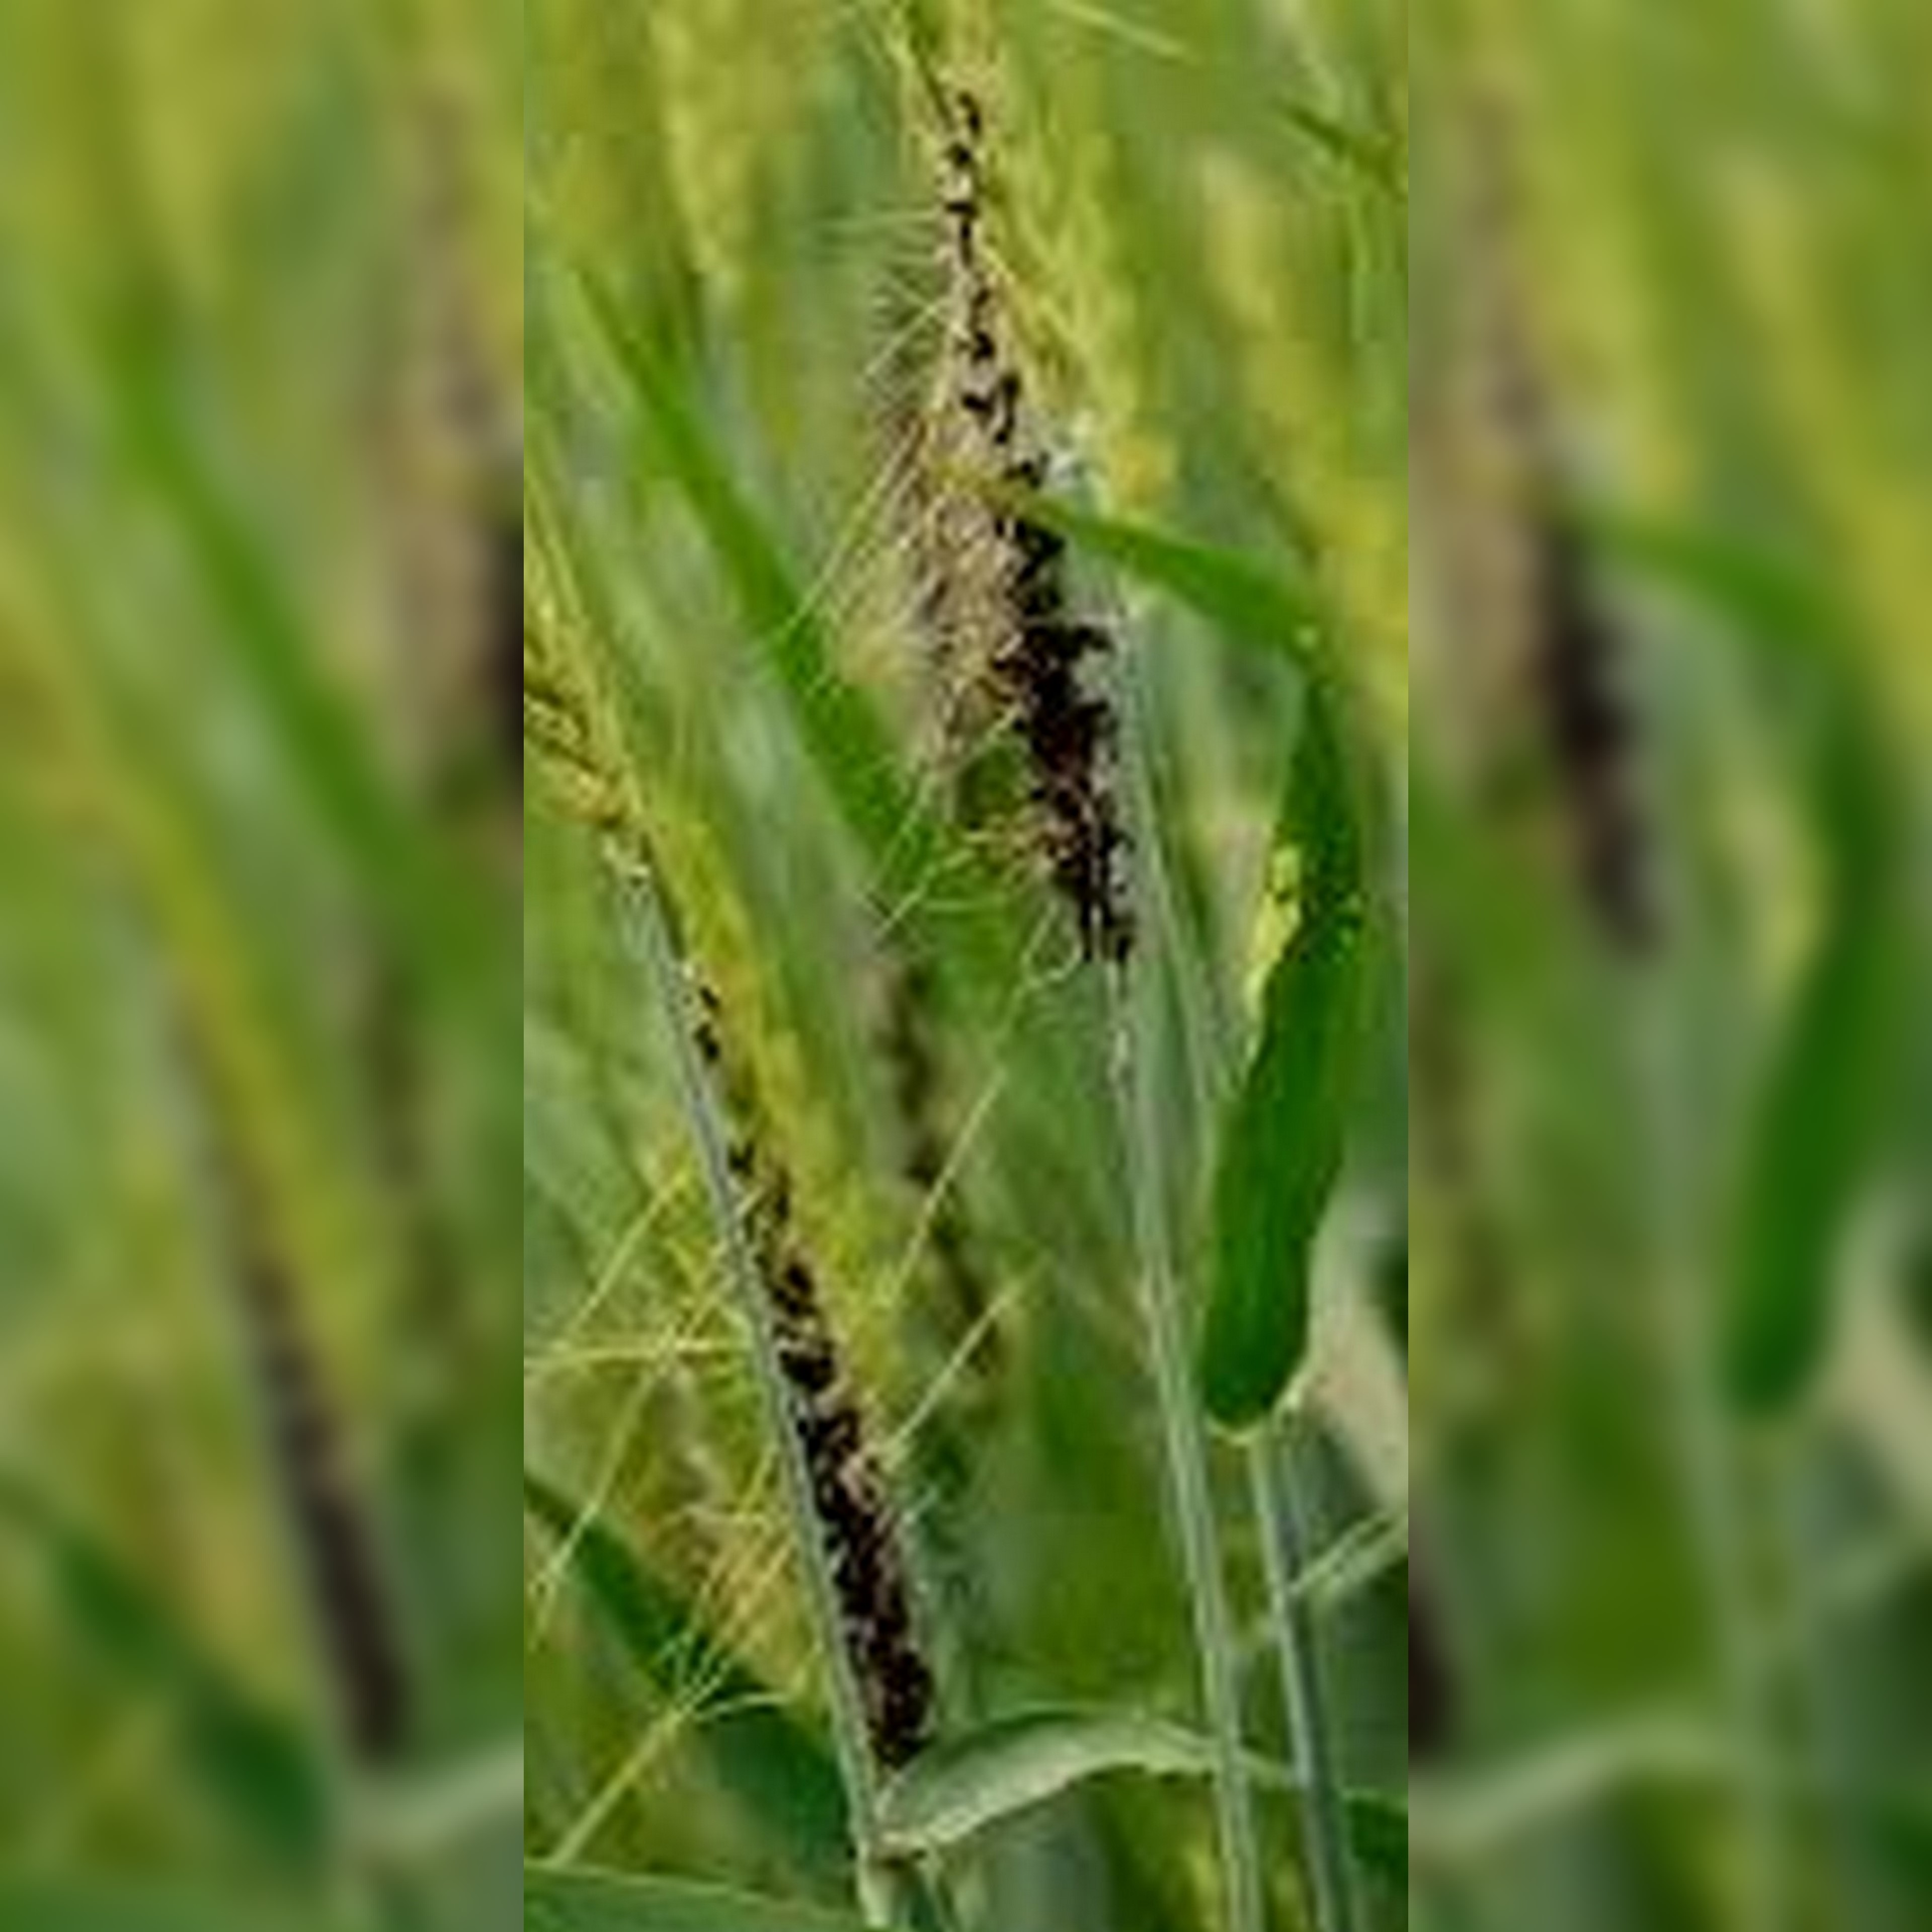Wheat Loose Smut: (904, 200, 1152, 1003), (694, 1150, 1014, 1764)
